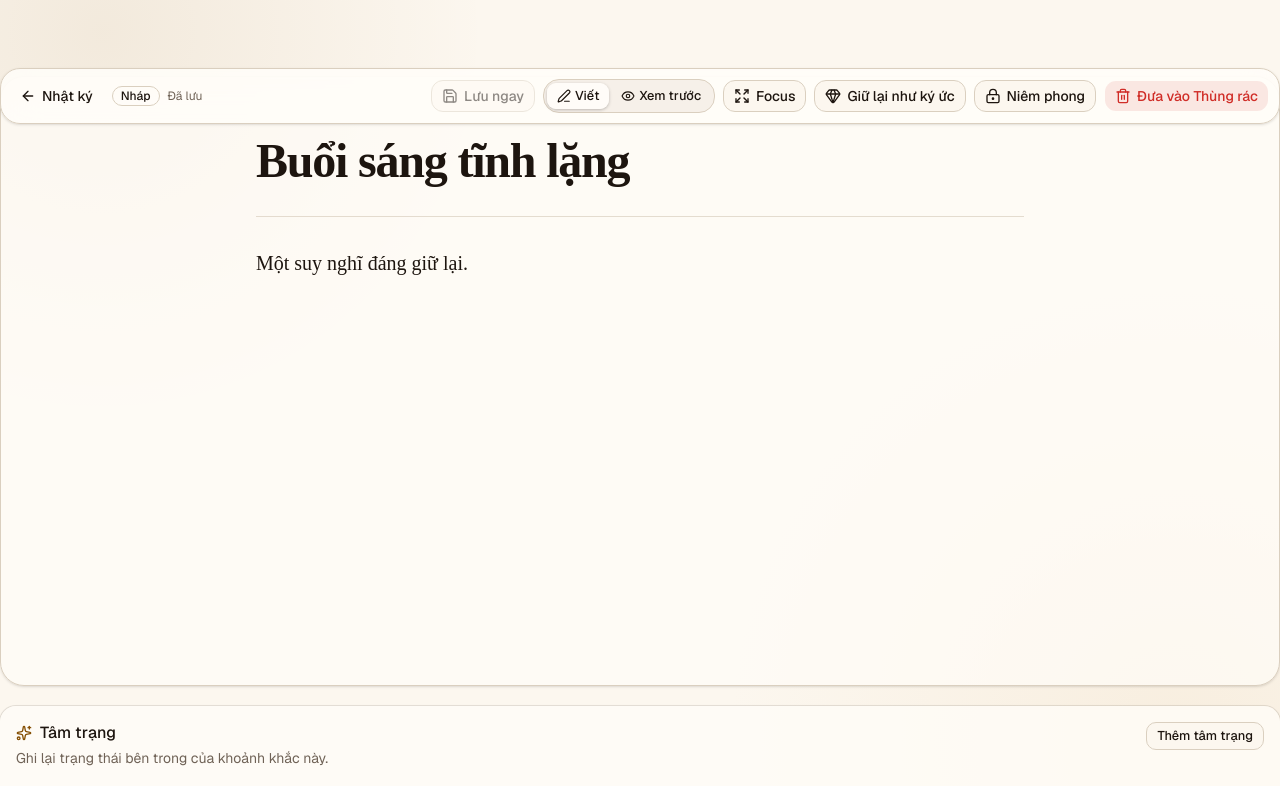
it: JournalEditor › offers to reload when autosave hits a revision conflict, using Journal's own wording
This screenshot has width=1280, height=786.
Replace the text in the text box named "Nội dung" with "Nội dung đang gõ dở.": [640, 437] box x1=256 y1=245 x2=1024 y2=629
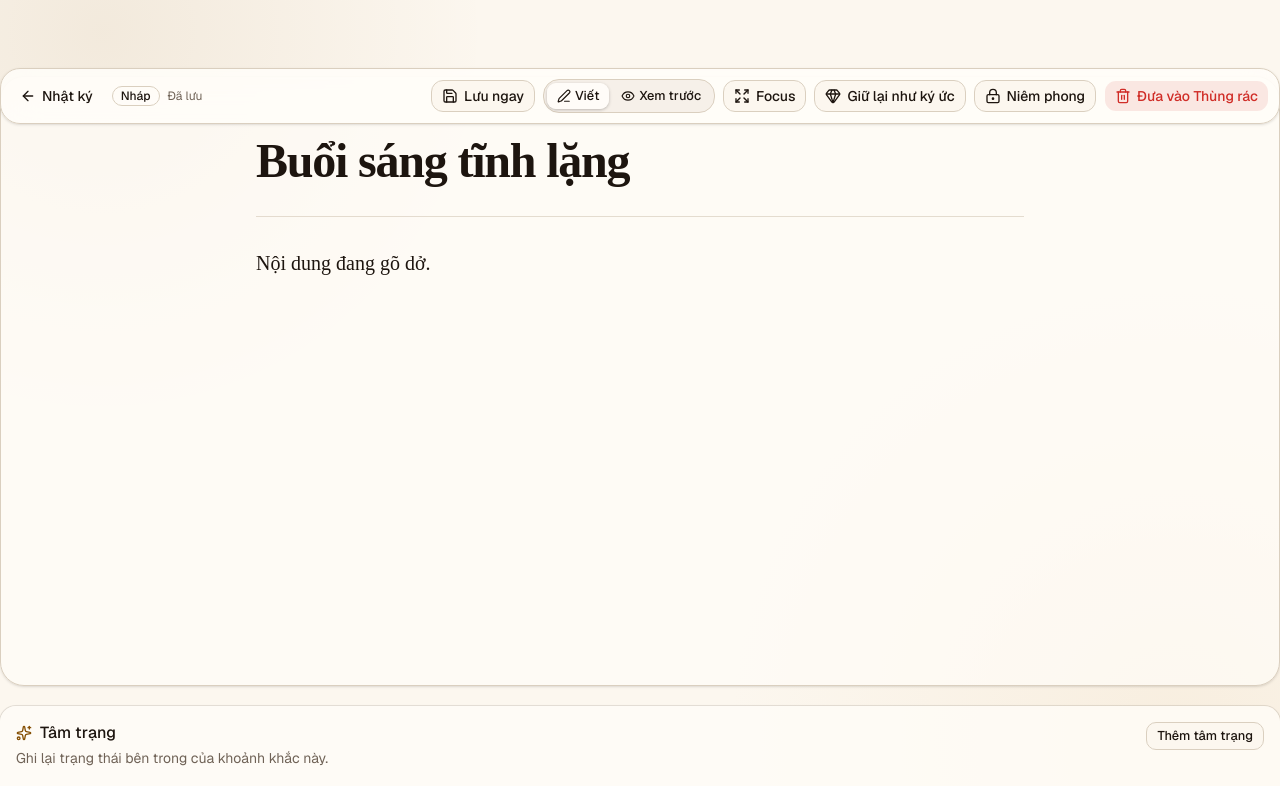
Click the button "Lưu ngay": [483, 96] box x1=431 y1=80 x2=535 y2=112
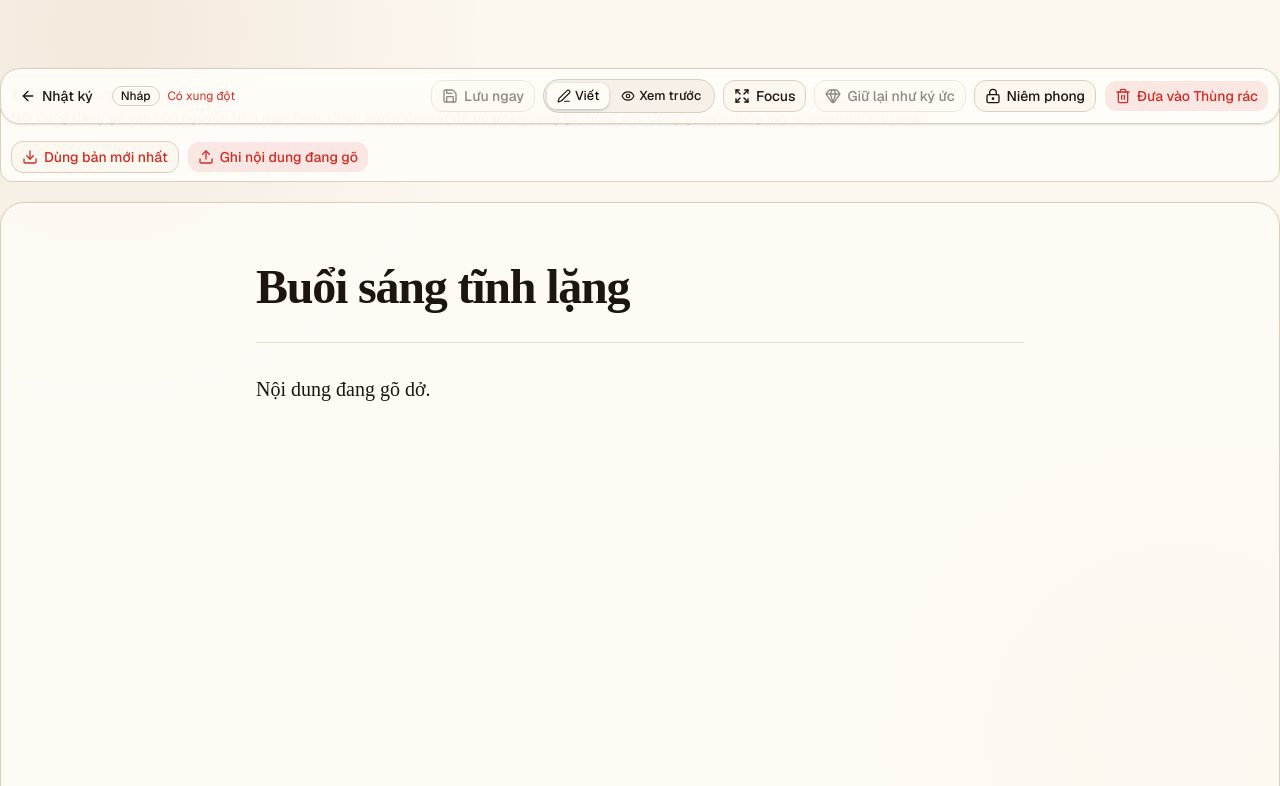
Check: the heading "Trang đã được thay đổi ở nơi khác" is shown, box x1=11 y1=86 x2=230 y2=104
Check: the button "Ghi nội dung đang gõ" is shown, box x1=187 y1=141 x2=369 y2=173
Check: the button "Dùng bản mới nhất" is enabled
Click the button "Dùng bản mới nhất": [95, 157] box x1=11 y1=141 x2=179 y2=173
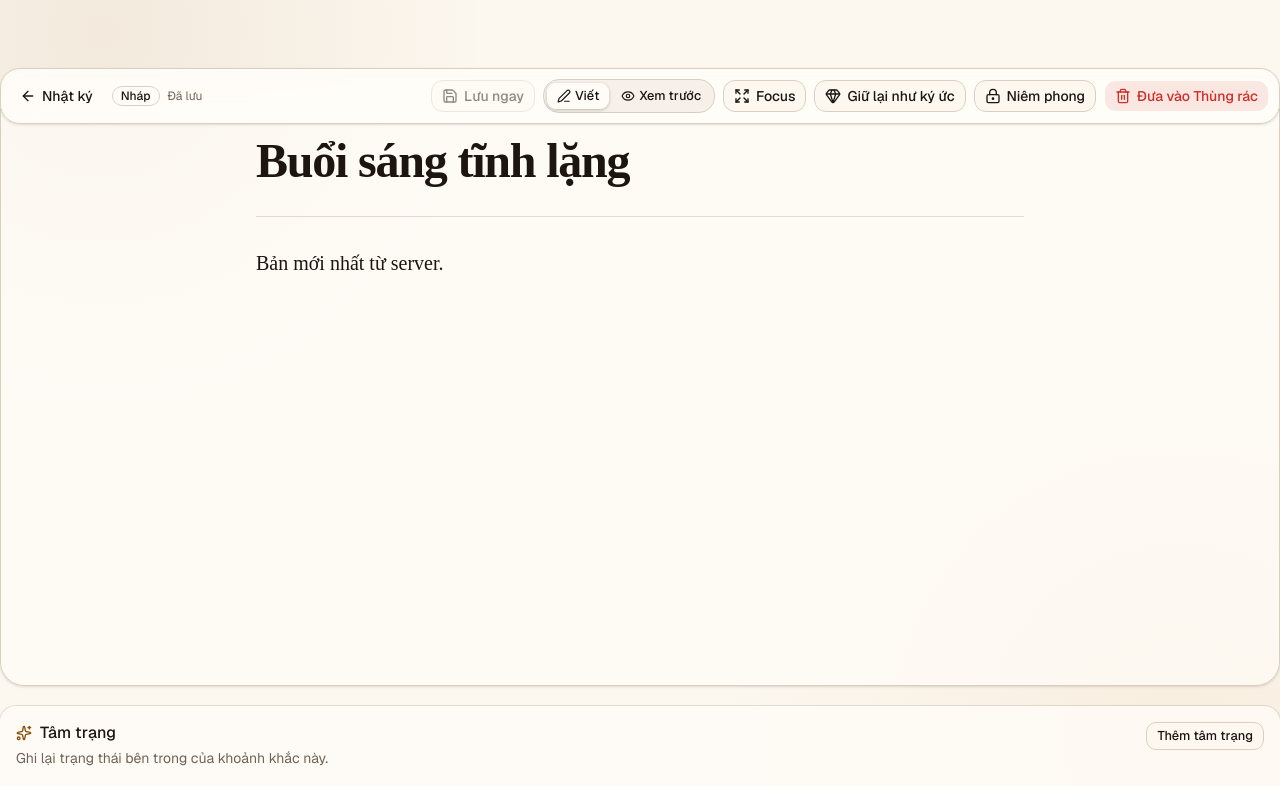
Check: the text box named "Nội dung" holds "Bản mới nhất từ server.", box x1=256 y1=245 x2=1024 y2=629
